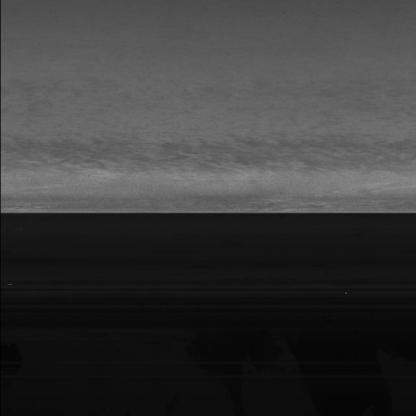silk_spot: (146, 136, 242, 181)
